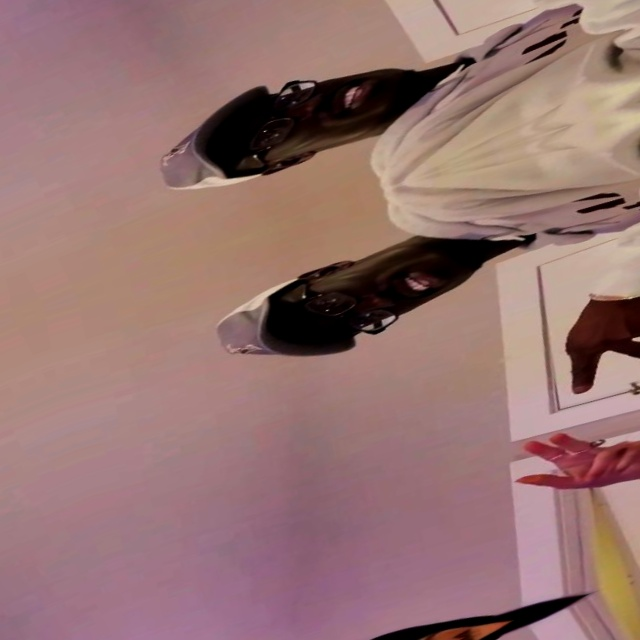Scissors: (503, 399, 640, 514), (544, 268, 640, 404)
